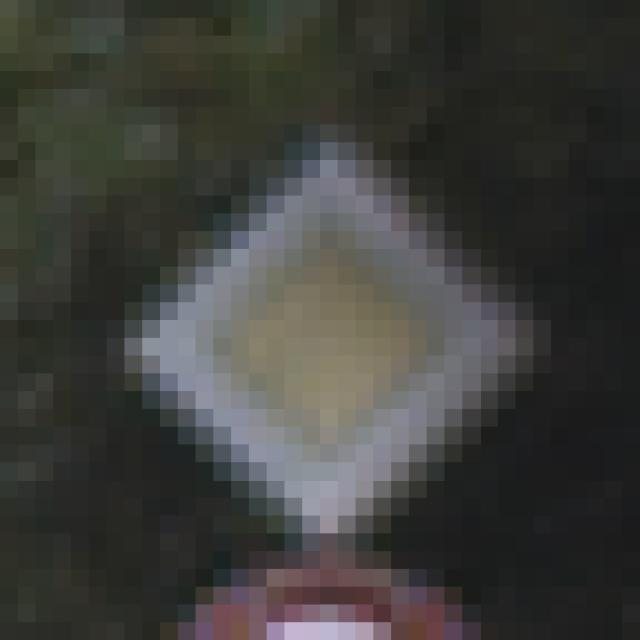Main Road: (108, 108, 552, 552)
